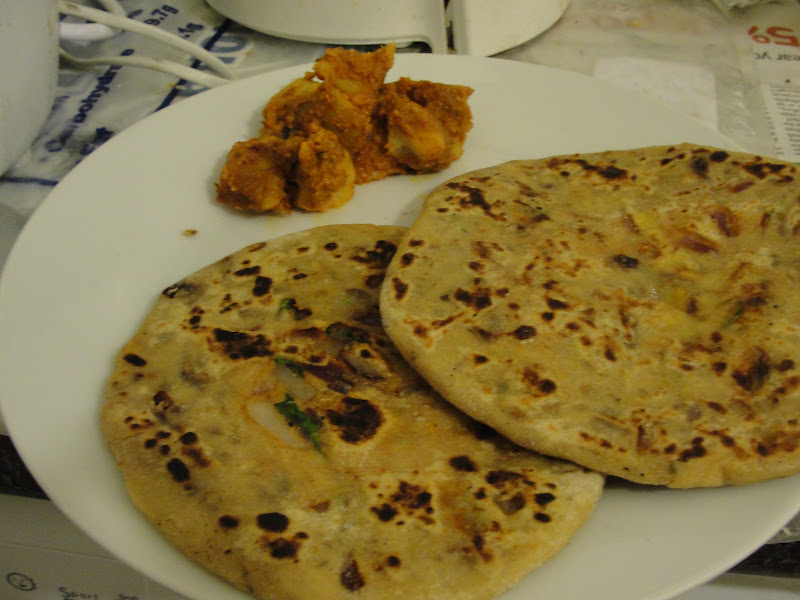aloo_paratha: (98, 145, 797, 595)
